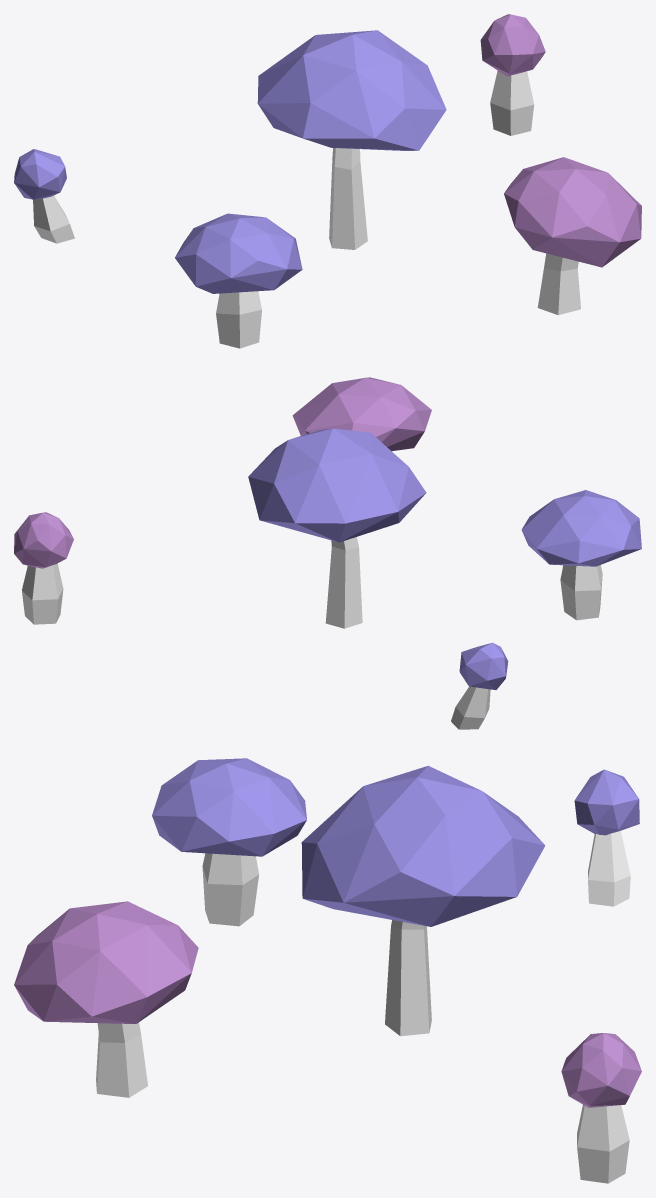
The model's file is Mushroom_k_06.fbx.
3 views of the same model, one above another, from view 1: azimuth 30°, elevation 25°; view 2: azimuth 150°, elevation 25°; view 3: azimuth 270°, elevation 25° (orthographic). The views are drawn at different scales.
Visible parts, largest first — view 1: Mushroom_k_06; view 2: Mushroom_k_06; view 3: Mushroom_k_06.
Boxes of the visible parts, x1,y1,x2,y2 form: Mushroom_k_06: (14, 14, 641, 348); Mushroom_k_06: (14, 377, 641, 729); Mushroom_k_06: (14, 758, 641, 1183).
Size of the model in its own units: 97.23 by 36.49 by 81.19.
